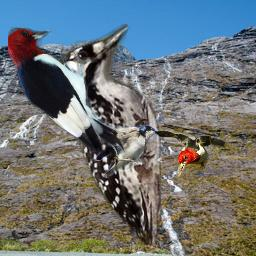Swallow: (84, 124, 159, 181)
Woodpecker: (50, 24, 161, 245), (8, 27, 129, 157), (150, 126, 227, 179)
